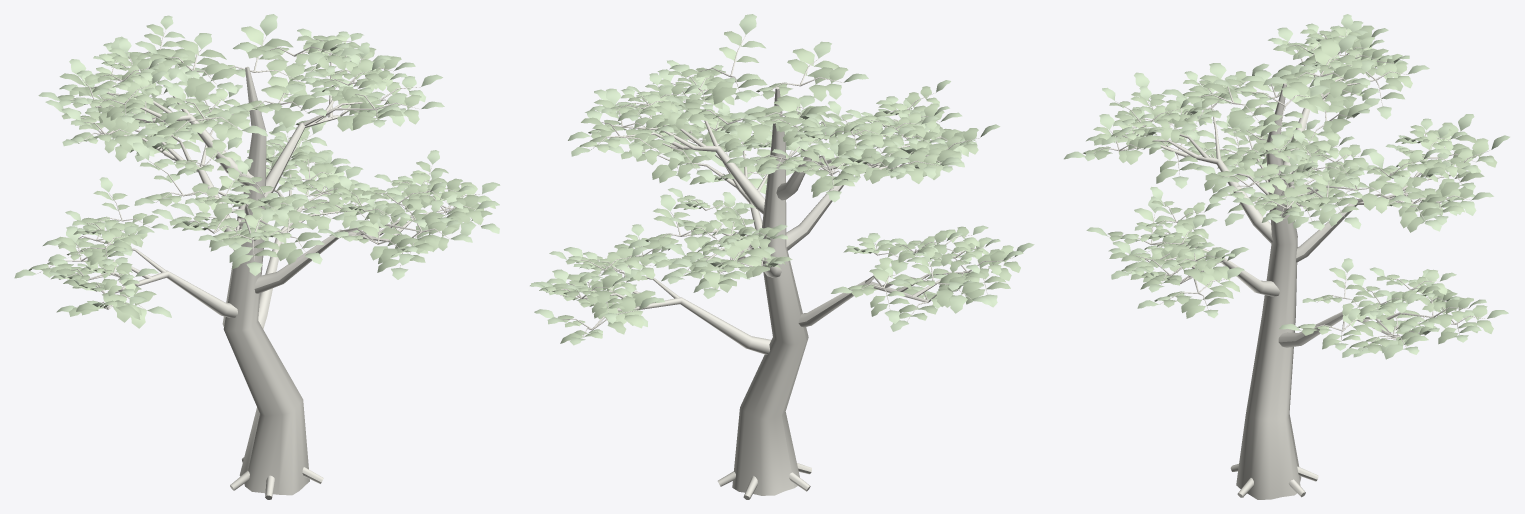
The model's file is SM_WLA_OakYoung_B.fbx.
3 views of the same model, side by side, from view 1: azimuth 30°, elevation 25°; view 2: azimuth 150°, elevation 25°; view 3: azimuth 270°, elevation 25° (orthographic). The views are drawn at different scales.
Visible parts, largest first — view 1: SM_WLA_OakYoung_B; view 2: SM_WLA_OakYoung_B; view 3: SM_WLA_OakYoung_B.
Boxes of the visible parts, bbox=[...] form: SM_WLA_OakYoung_B: bbox=[14, 14, 500, 499]; SM_WLA_OakYoung_B: bbox=[530, 14, 1034, 499]; SM_WLA_OakYoung_B: bbox=[1064, 14, 1509, 499].
Size of what is drawn, in the model's own units: 4.64 by 5 by 4.87.
